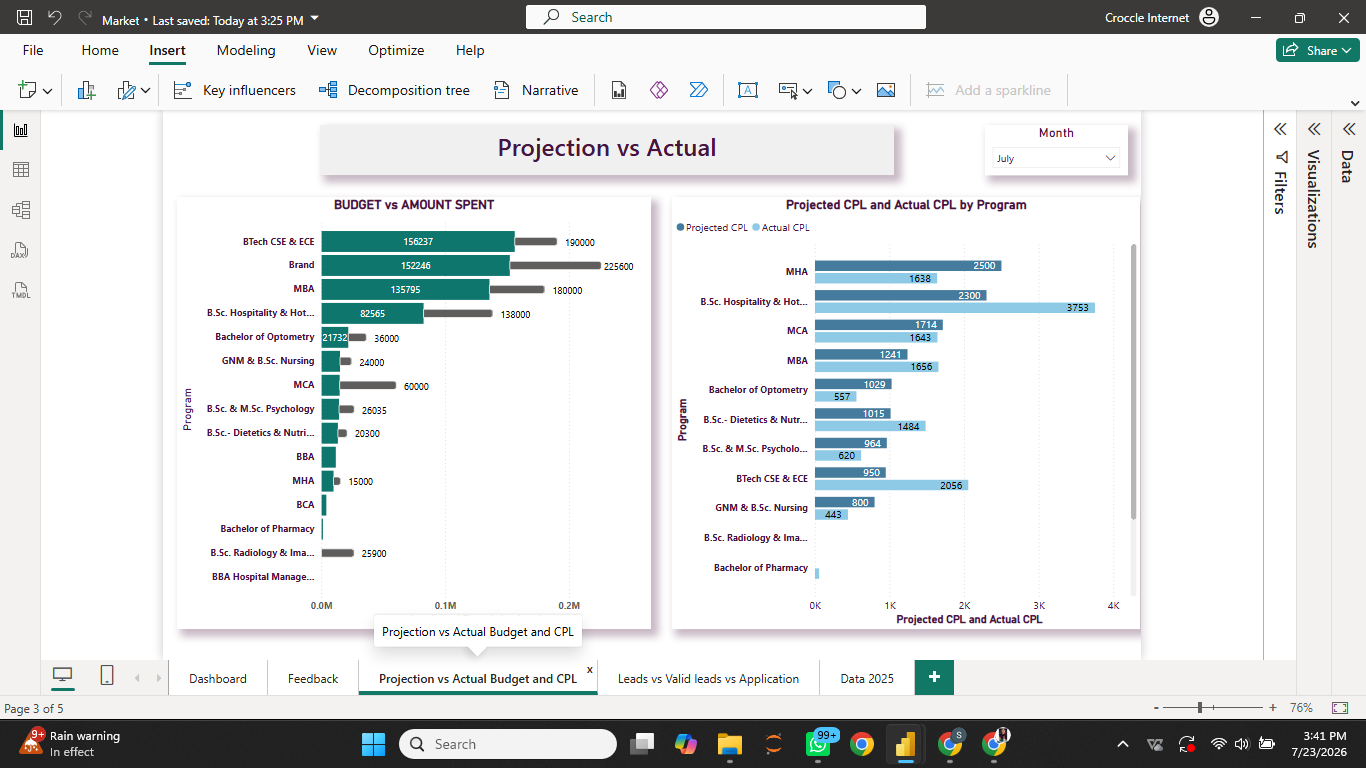

Layout of this report page (visuals, bound fields, positions):
{"tool":"powerbi","page":{"name":"Projection vs Actual Budget and CPL","canvas":[1280,720],"ordinal":2},"visuals":[{"type":"textbox","box":[205.9,20.2,751.7,66.2],"z":0},{"type":"slicer","title":"Month","fields":{"Values":["Proj  Vs  Actual.Month"]},"box":[1075.7,20.2,187.2,66.2],"z":1000},{"type":"clusteredBarChart","title":"BUDGET vs AMOUNT SPENT","fields":{"Category":["Proj  Vs  Actual.Program"],"Y":["Sum(Proj  Vs  Actual.Amount Spent)"]},"box":[18.7,113.8,620.6,565.9],"z":2000},{"type":"clusteredBarChart","fields":{"Category":["Proj  Vs  Actual.Program"],"Y":["Proj  Vs  Actual.Projected CPL","Proj  Vs  Actual.CPL"]},"box":[666.7,113.8,613.4,565.9],"z":3000}]}

Visuals, with their boxes on the page's 1280x720 design canvas (x1, y1, x2, y2). These are canvas units, not pixel positions in the 1366x768 screenshot, which may show the page scaled, cropped or inside an application window:
textbox: region(206, 20, 958, 86)
"Month" slicer: region(1076, 20, 1263, 86)
"BUDGET vs AMOUNT SPENT" clusteredBarChart: region(19, 114, 639, 680)
clusteredBarChart - Proj  Vs  Actual.Program x Proj  Vs  Actual.Projected CPL: region(667, 114, 1280, 680)
